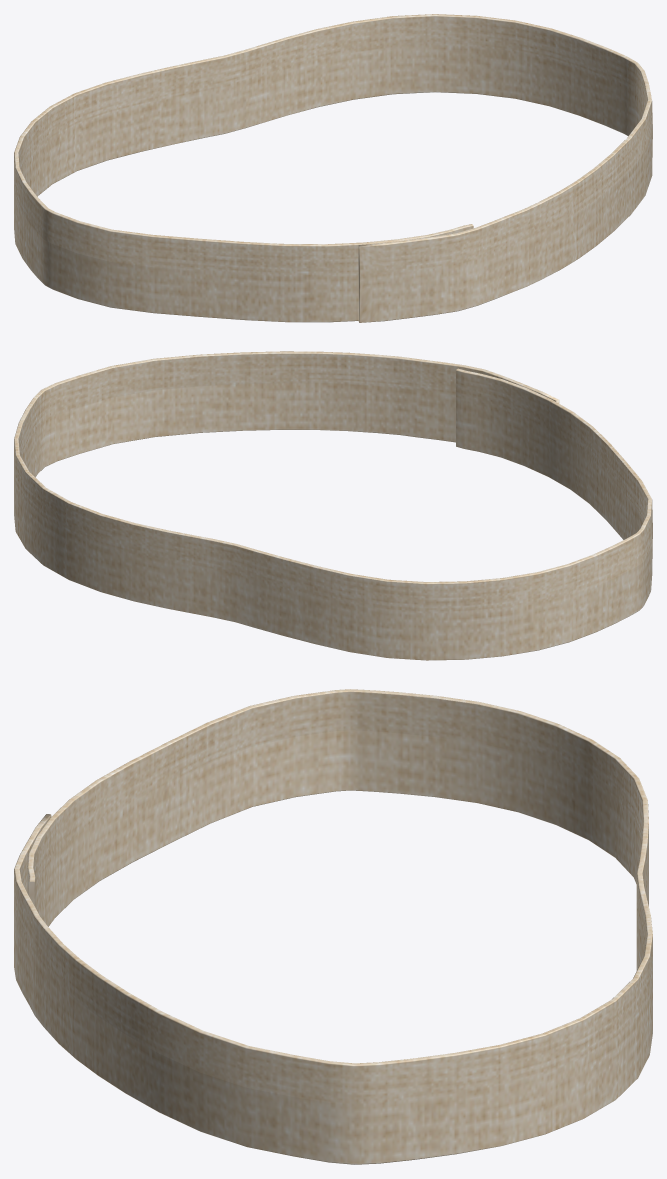
The model's file is 5cm standard_hidden_button.glb.
3 views of the same model, one above another, from view 1: azimuth 30°, elevation 25°; view 2: azimuth 150°, elevation 25°; view 3: azimuth 270°, elevation 25° (orthographic). The views are drawn at different scales.
Parts seen in each view (by area): view 1: standard_hidden_button_5cm; view 2: standard_hidden_button_5cm; view 3: standard_hidden_button_5cm.
Part boxes in pixels (x1=…): standard_hidden_button_5cm: x1=14, y1=14, x2=652, y2=322; standard_hidden_button_5cm: x1=14, y1=351, x2=652, y2=660; standard_hidden_button_5cm: x1=14, y1=689, x2=652, y2=1164.
Bounding box in the file's own units: 0.047 × 0.0058 × 0.0336.
Materials: 1 (1 with a texture image).
